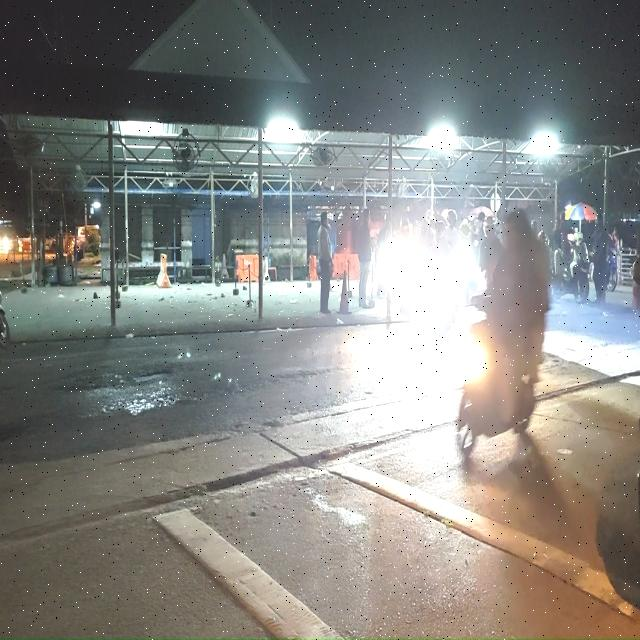Golongan II: (457, 320, 534, 456), (380, 243, 457, 341), (551, 242, 590, 303), (453, 242, 483, 304), (0, 293, 9, 348), (607, 248, 617, 292)
